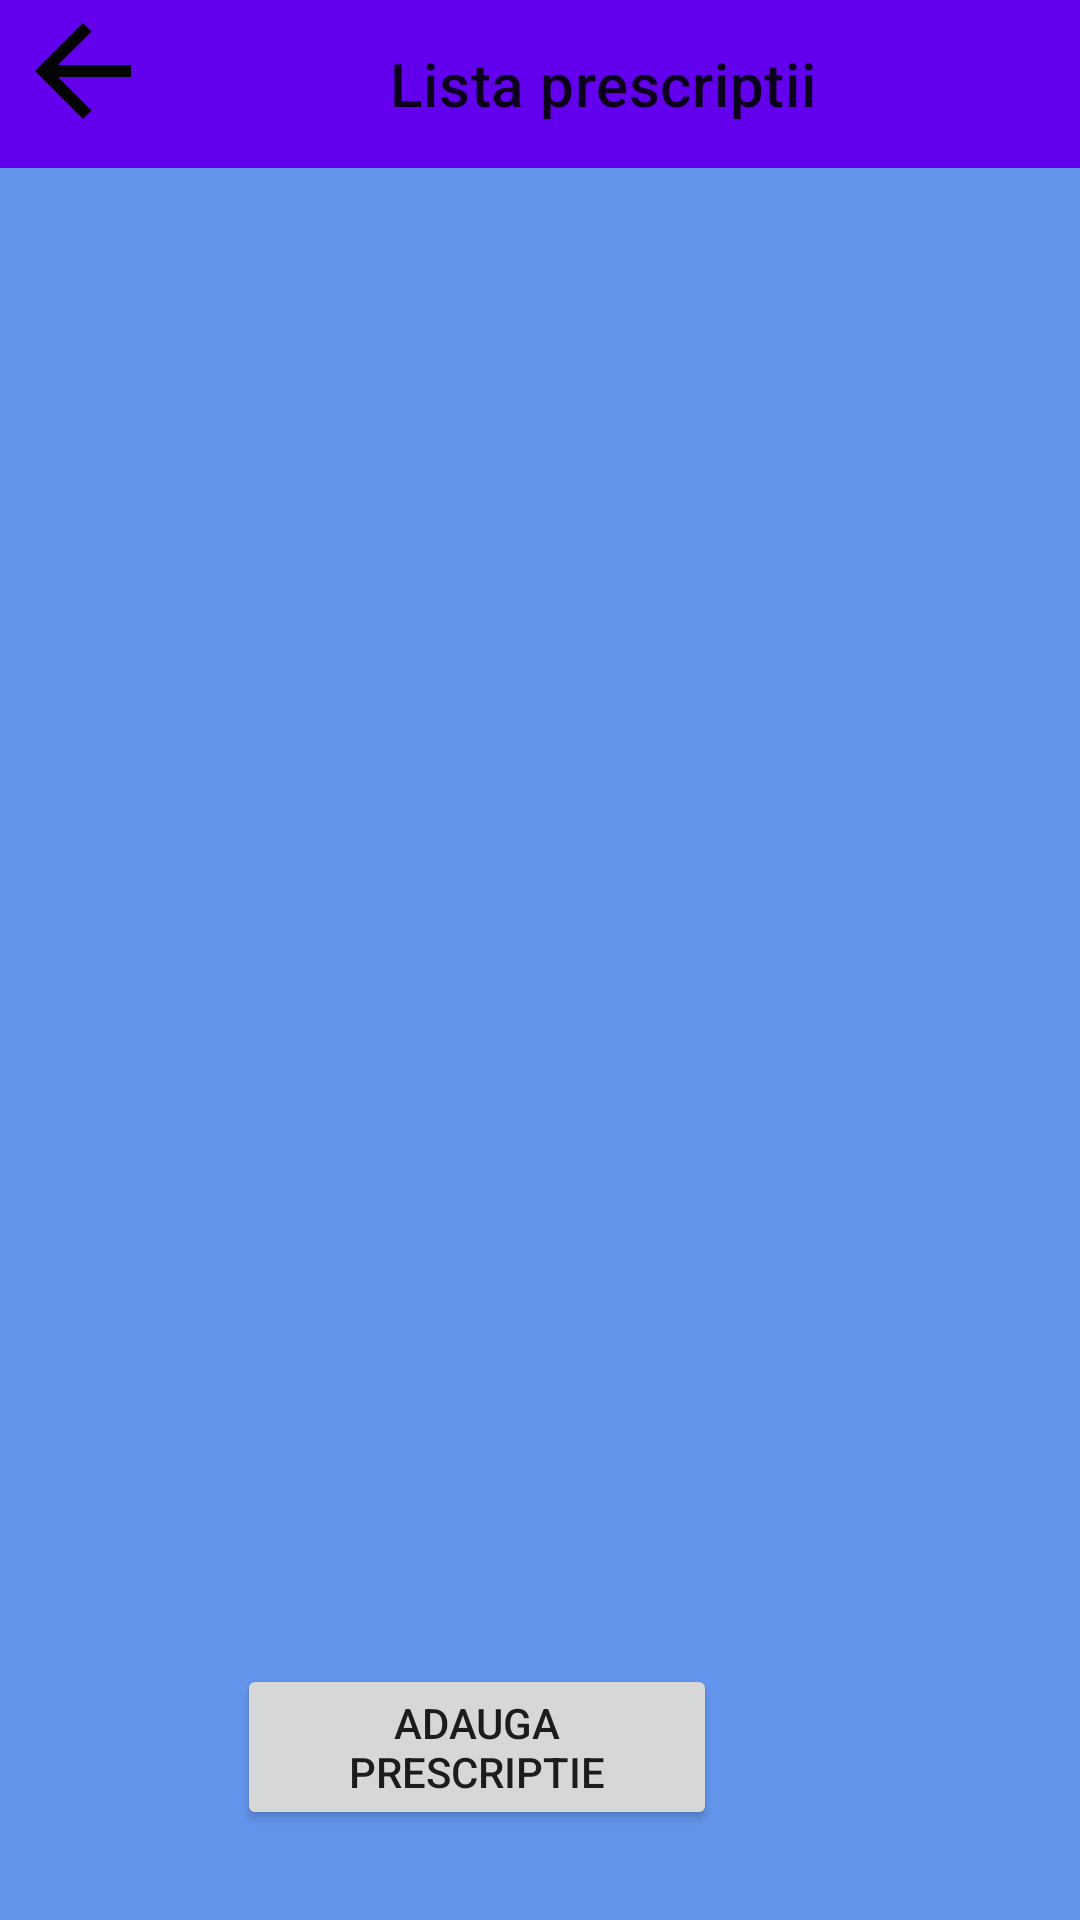

Screen size 1080x1920. Icon name, then its box in pixels as (x1, y1, x2, y2):
arrow back: (35, 23, 131, 119)
